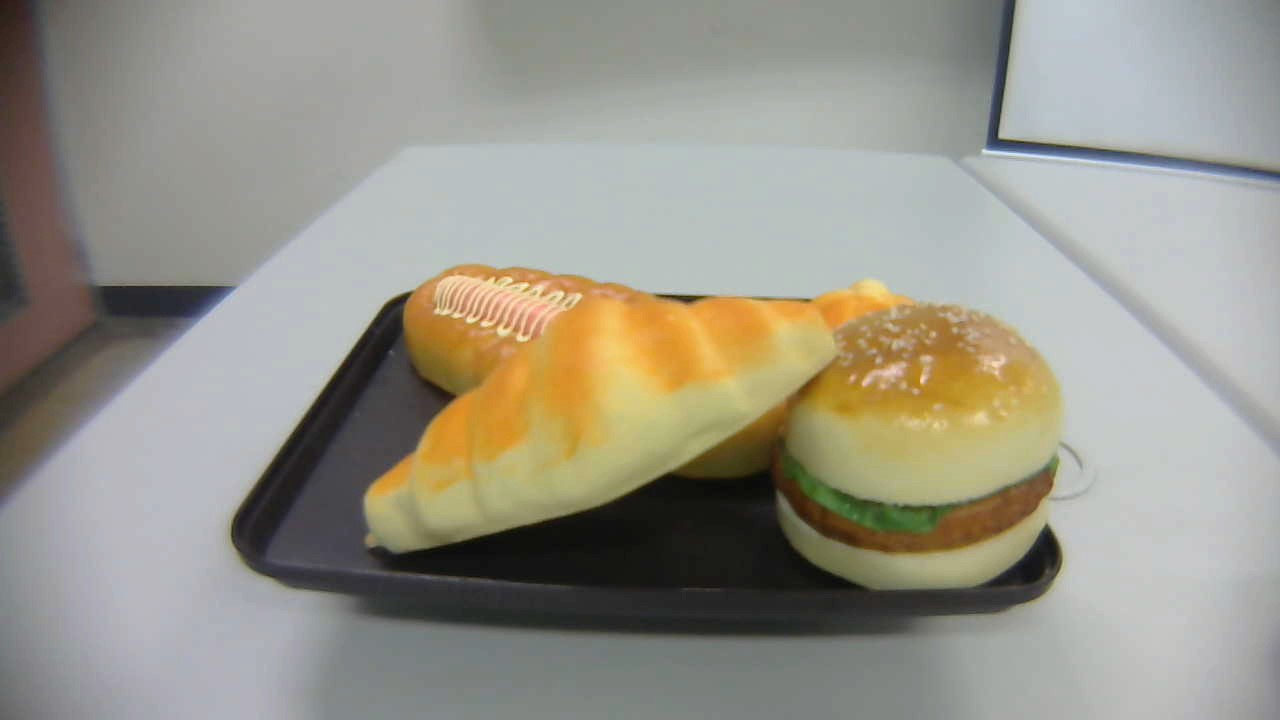croissant: (362, 292, 836, 558)
hamburger: (776, 304, 1063, 592)
hot dog: (402, 262, 784, 479)
twist bread: (801, 276, 931, 377)
